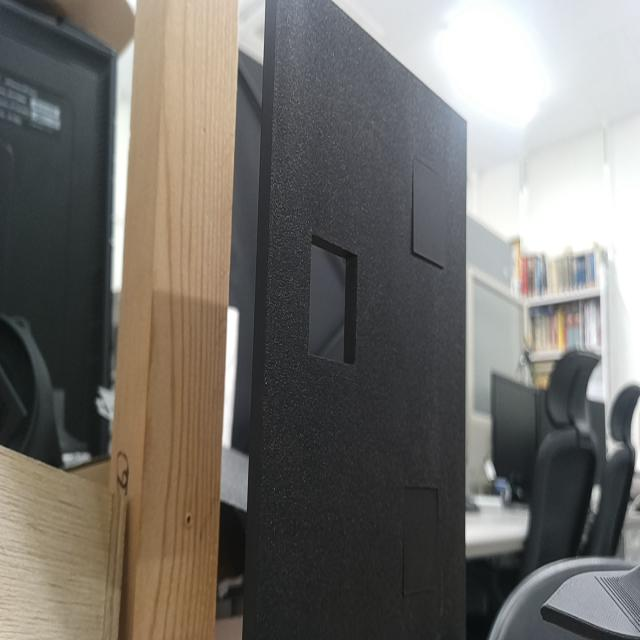Obstacle: (308, 235, 359, 361)
Wall: (257, 0, 469, 639)
